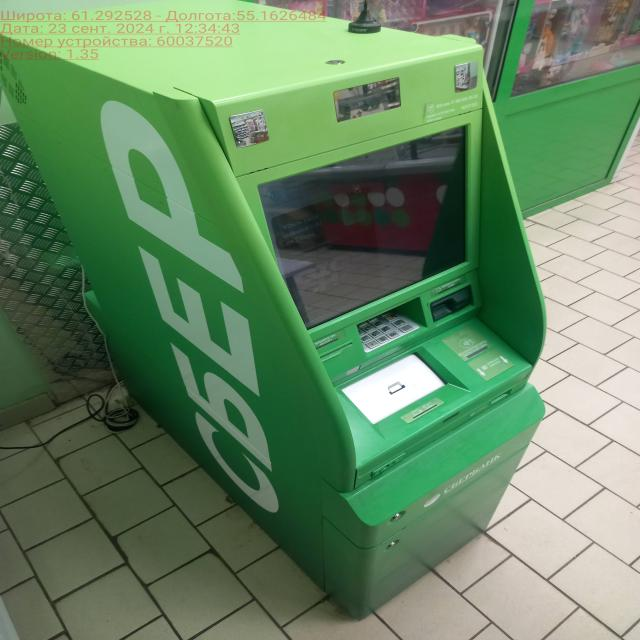bank: (0, 0, 551, 618)
